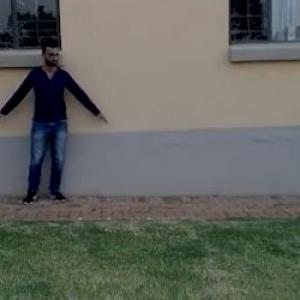land: (0, 43, 107, 218)
